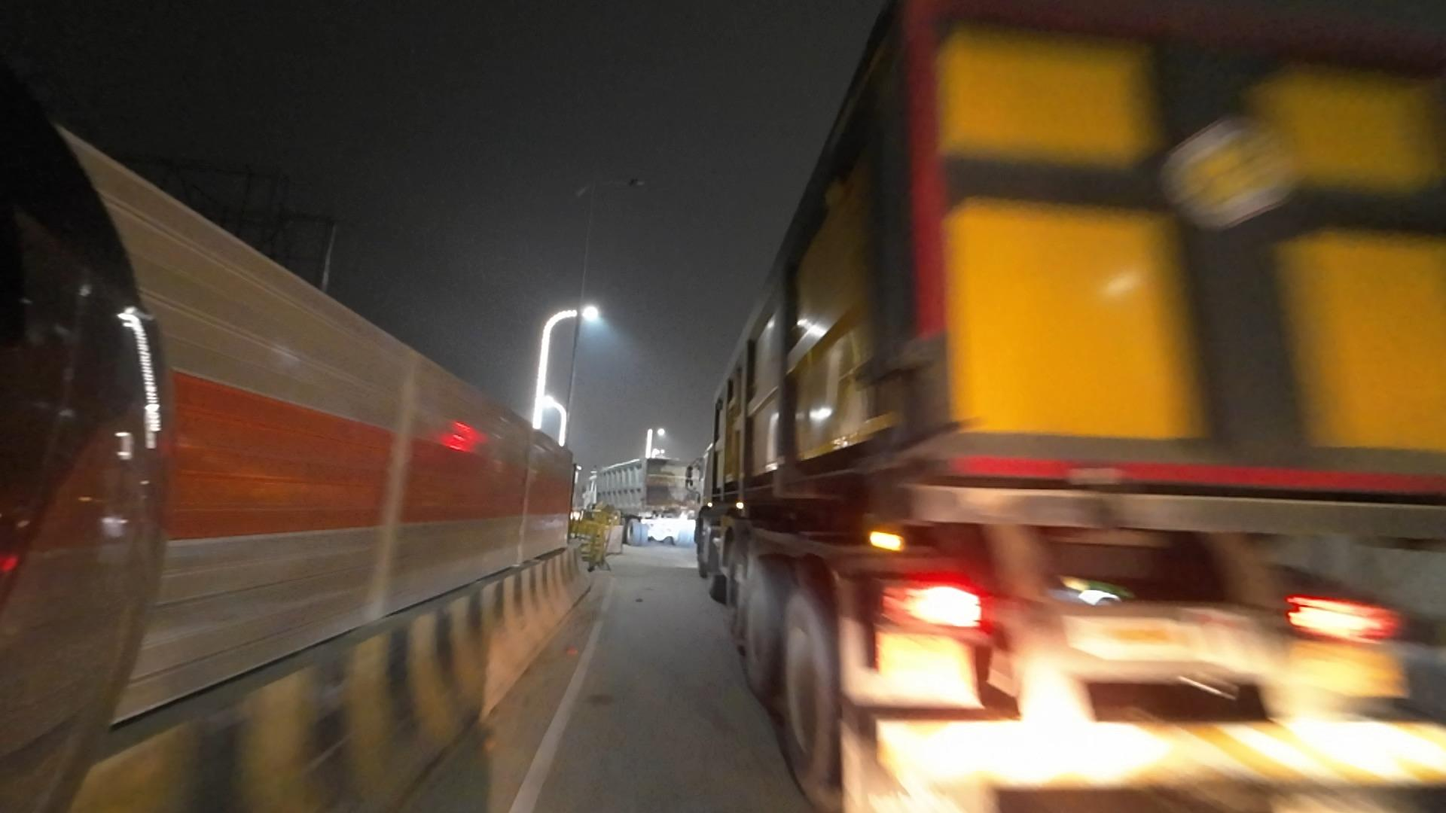streetlight: (594, 171, 653, 194)
